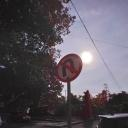NoVirarU: (52, 52, 86, 84)
